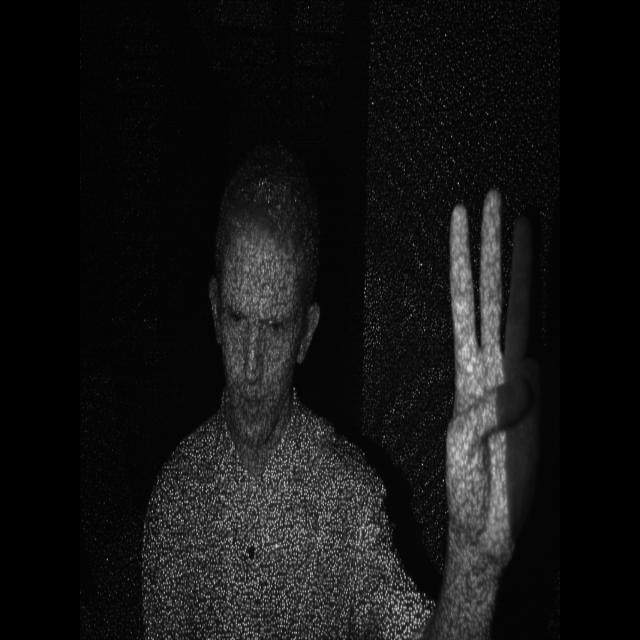W: (434, 170, 562, 573)
